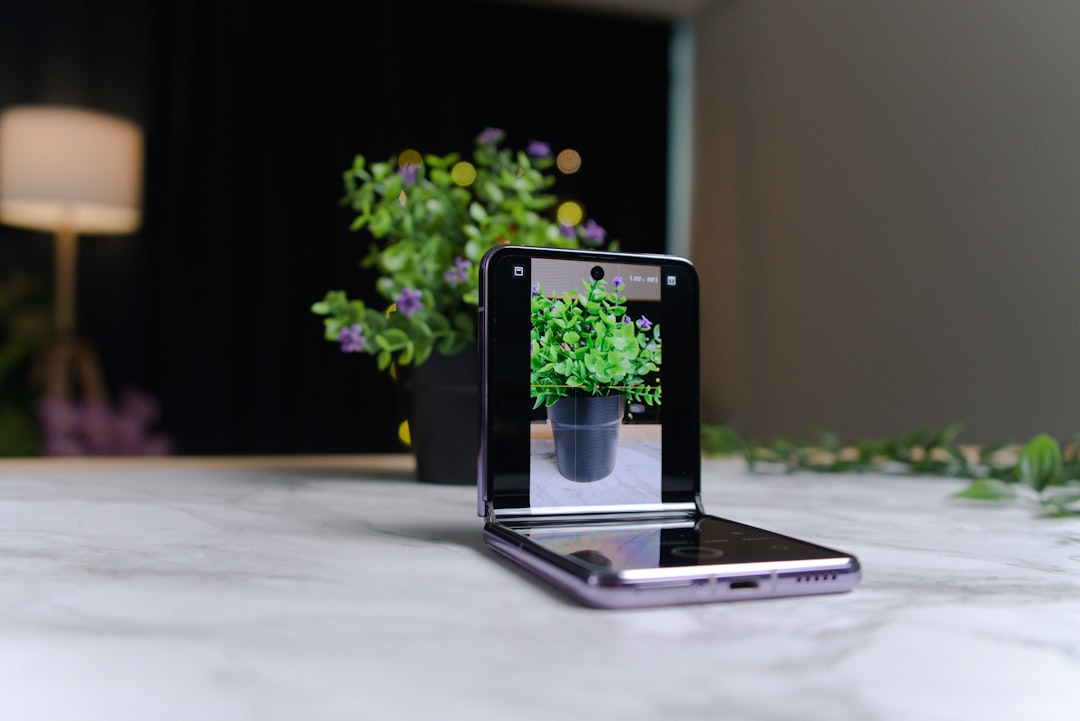phone: (477, 244, 862, 598)
